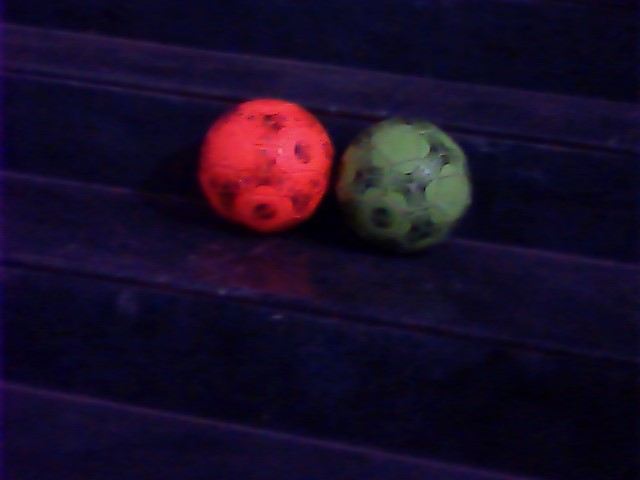Green_ball: (336, 111, 487, 262)
Orange_ball: (191, 97, 343, 249)
